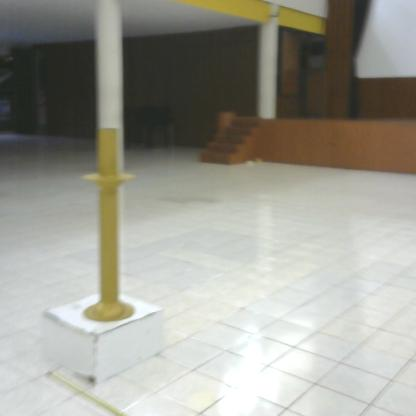pole: (77, 121, 141, 332)
